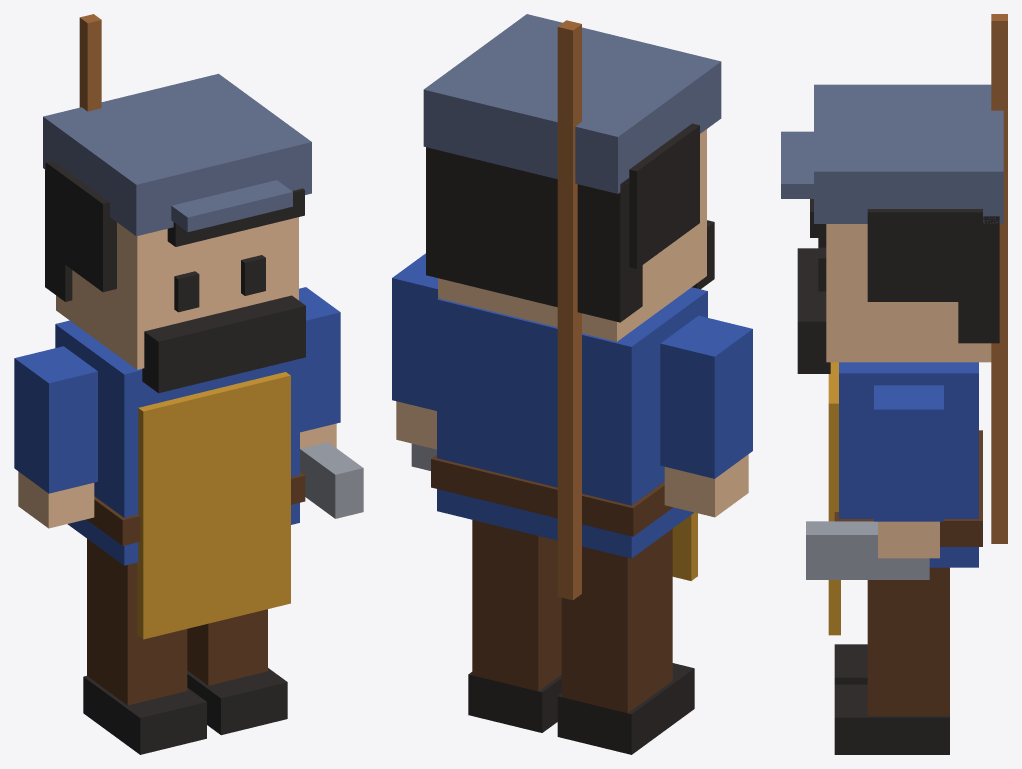
File: H_MedFisherman.fbx
3 renders of one model, left to right at view 1: azimuth 30°, elevation 25°; view 2: azimuth 150°, elevation 25°; view 3: azimuth 270°, elevation 25°, orthographic. The views are drawn at different scales.
Visible parts, largest first — view 1: M_Fisherman; view 2: M_Fisherman; view 3: M_Fisherman.
Part boxes in pixels (x1,y1,x2,y2): M_Fisherman: (14, 14, 363, 754); M_Fisherman: (392, 14, 752, 754); M_Fisherman: (781, 14, 1007, 754).
Bounding box in the file's own units: 0.83 × 1.82 × 0.55.
Materials: 1 (1 with a texture image).
